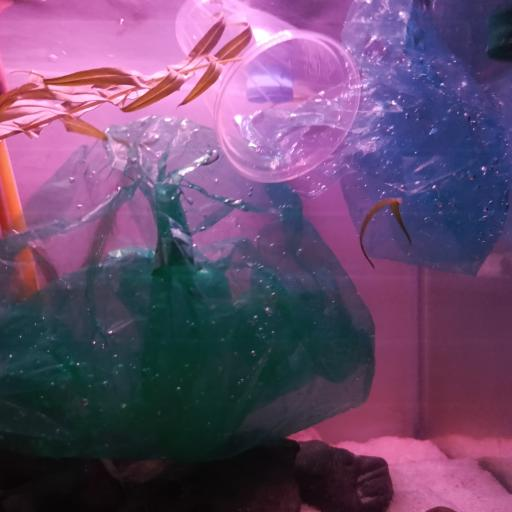bottle_cap: (247, 82, 295, 102)
plastic_bag: (0, 113, 377, 458), (243, 0, 512, 278)
plastic_cup: (174, 0, 362, 184)
plastic_straw: (0, 130, 42, 296)
